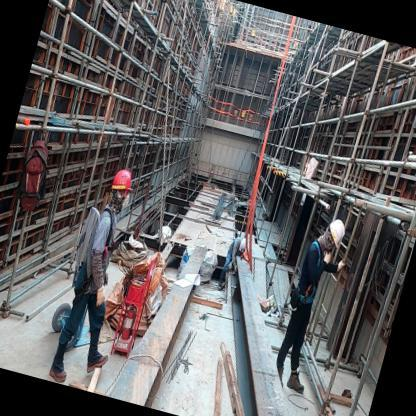no_safety-shoe: (104, 159, 145, 205), (324, 214, 351, 254)
safety-shoe: (282, 367, 312, 405), (82, 353, 113, 380), (44, 358, 72, 385)
